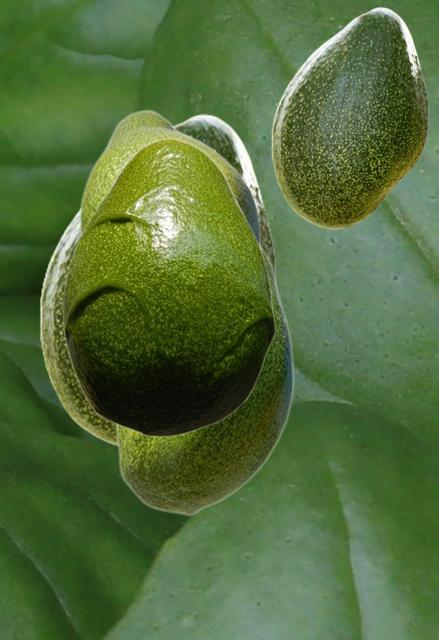avocado: (39, 114, 274, 447), (62, 137, 275, 436), (113, 245, 294, 515), (271, 7, 427, 228), (78, 109, 260, 244)
